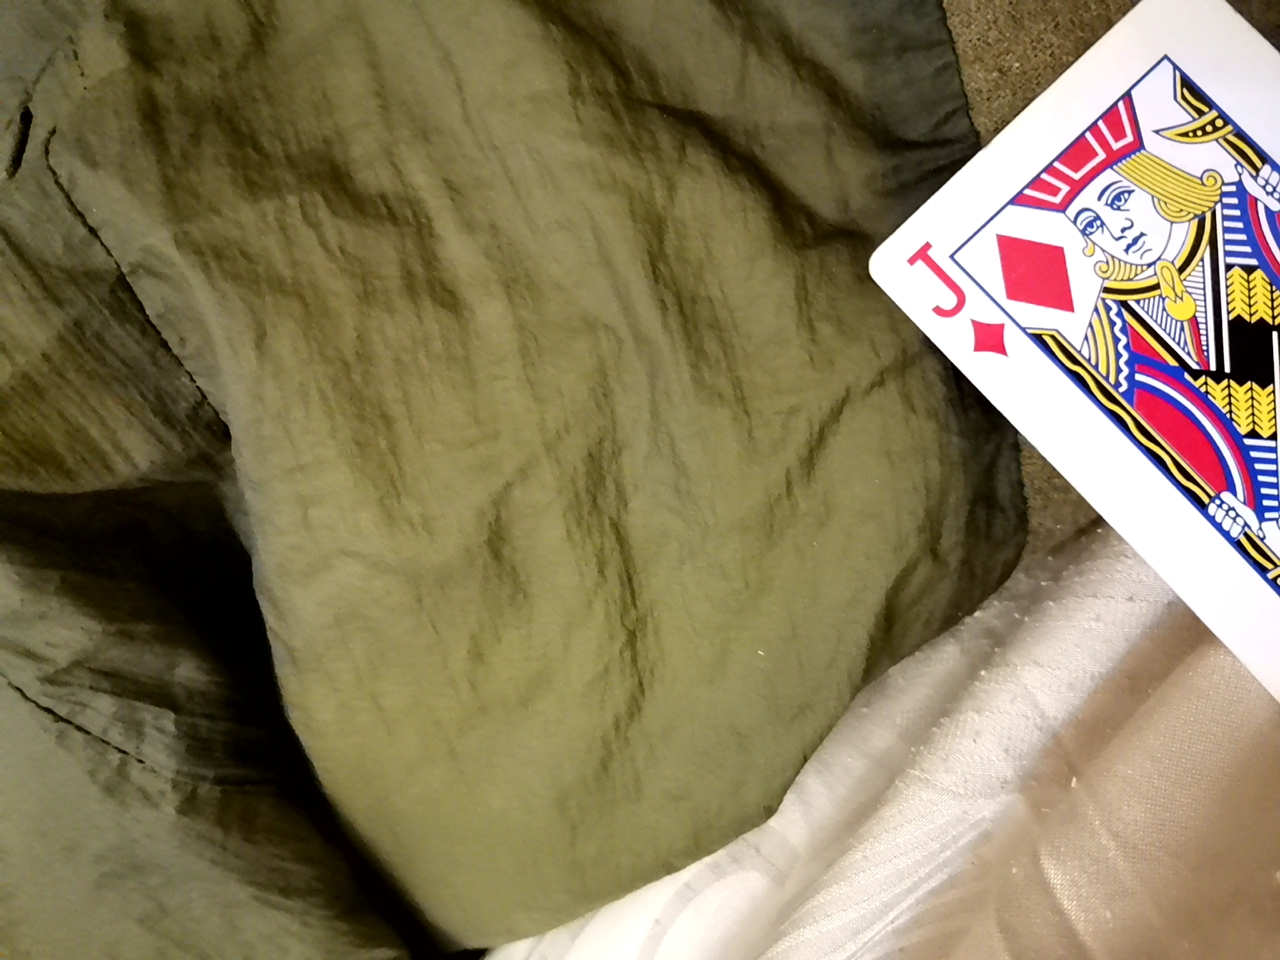fk j: (861, 0, 1276, 760)
